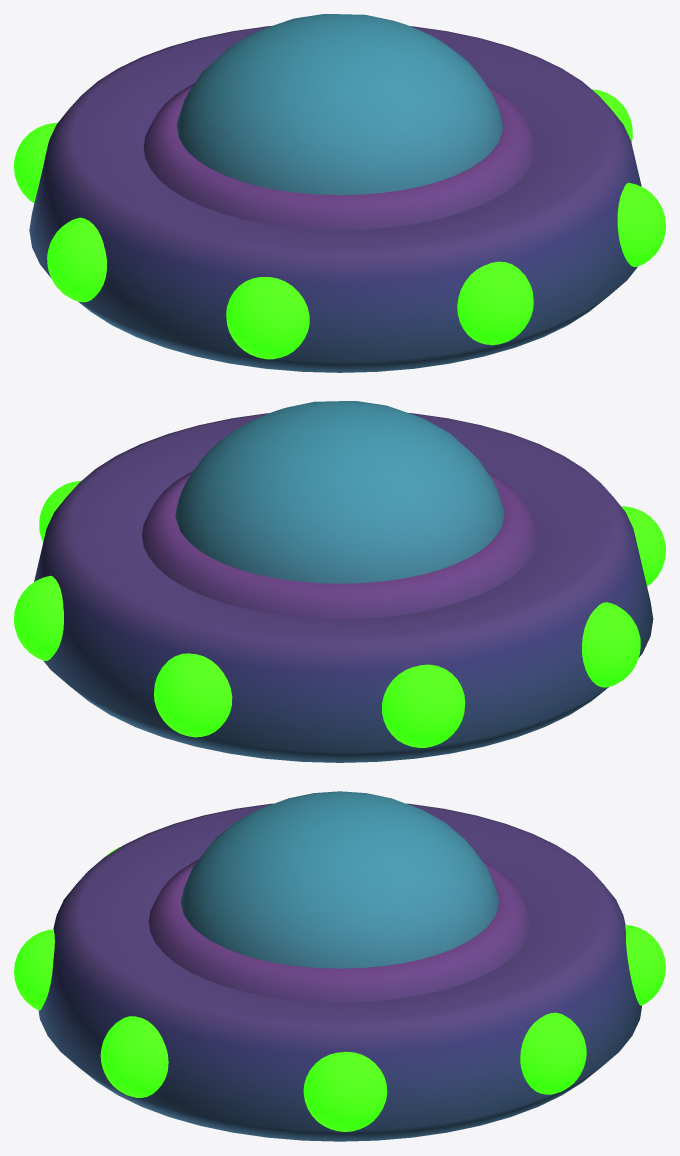
File: UFO.fbx
3 views of the same model, one above another, from view 1: azimuth 30°, elevation 25°; view 2: azimuth 150°, elevation 25°; view 3: azimuth 270°, elevation 25° (orthographic). The views are drawn at different scales.
Parts seen in each view (by area): view 1: UFO; view 2: UFO; view 3: UFO.
Part boxes in pixels (x1,y1,x2,y2): UFO: (14,14,665,372); UFO: (14,401,665,762); UFO: (14,791,665,1141).
Bounding box in the file's own units: 2196 × 959 × 2196.
